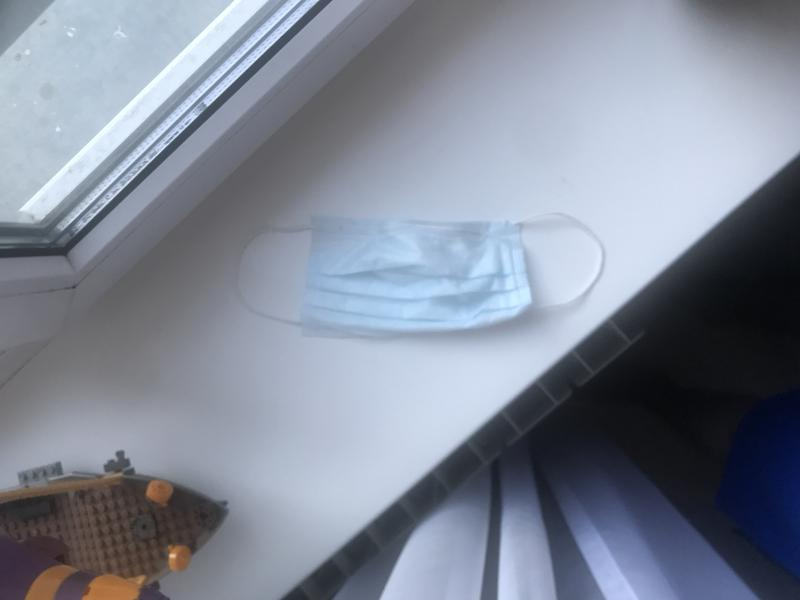medical_mask: (236, 214, 604, 322)
